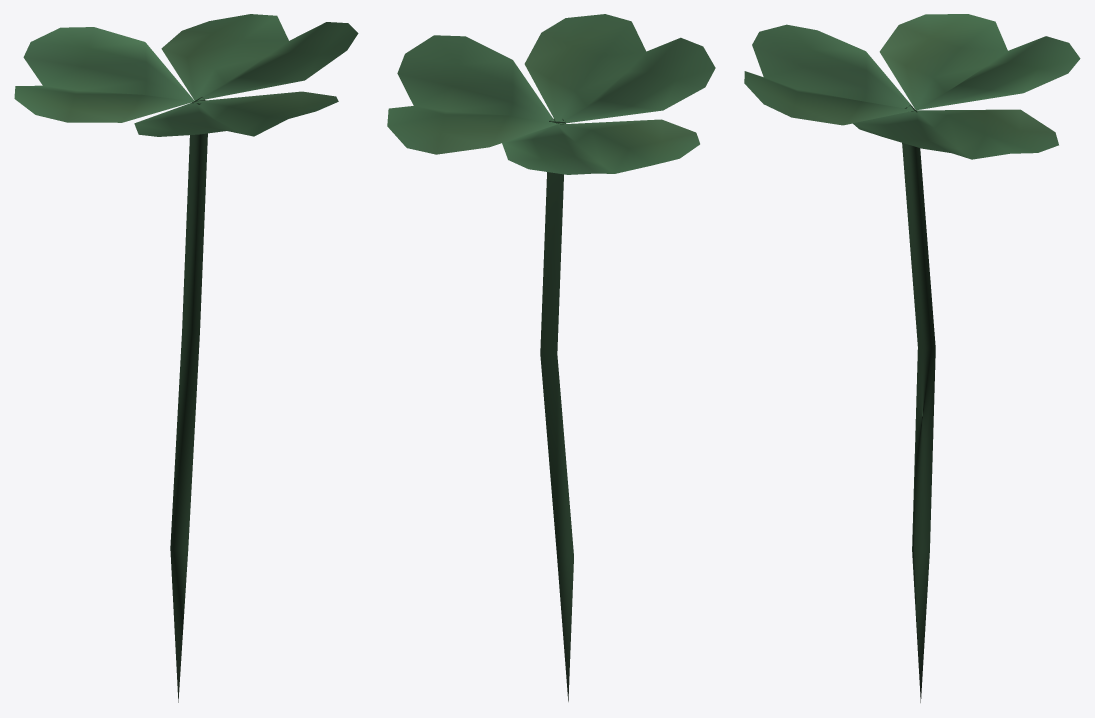
Rendered from plants-leafy-plants-clover_v5.glb.
3 renders of one model, left to right at view 1: azimuth 30°, elevation 25°; view 2: azimuth 150°, elevation 25°; view 3: azimuth 270°, elevation 25°, orthographic. The views are drawn at different scales.
Visible parts, largest first — view 1: Clover_v5; view 2: Clover_v5; view 3: Clover_v5.
Boxes of the visible parts, x1,y1,x2,y2 form: Clover_v5: (14,14,358,702); Clover_v5: (387,14,715,701); Clover_v5: (744,14,1080,702).
Bounding box in the file's own units: 0.0756 × 0.15 × 0.0708.
